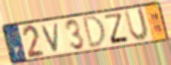2: (22, 24, 46, 60)
3: (64, 18, 86, 52)
D: (82, 14, 108, 50)
U: (123, 6, 151, 43)
V: (40, 21, 61, 54)
Z: (104, 12, 131, 45)
